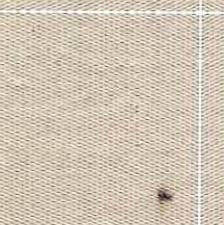stain: (152, 184, 179, 205)
